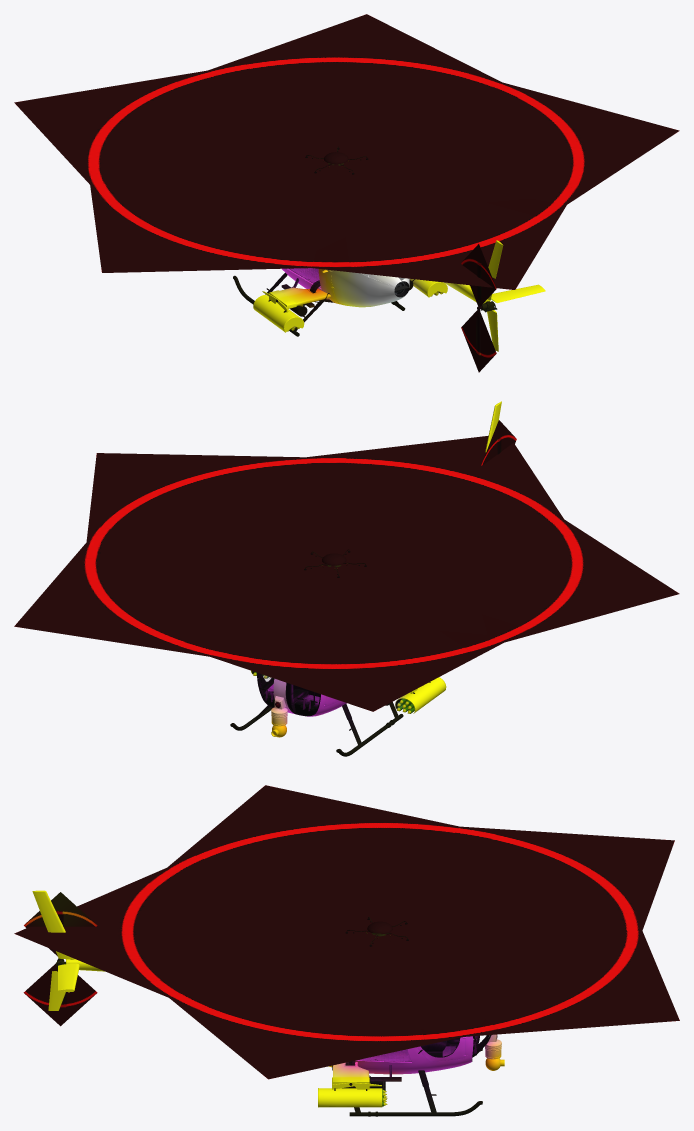
The model's file is buzzard.glb.
The picture shows the model from 3 angles, top to bottom: view 1: azimuth 30°, elevation 25°; view 2: azimuth 150°, elevation 25°; view 3: azimuth 270°, elevation 25°; orthographic projection. The views are drawn at different scales.
Visible parts, largest first — view 1: rotor_main_fast, bodyshell, outriggers_l, rotor_rear_fast, tail, chassis; view 2: rotor_main_fast, bodyshell, chassis, outriggers_l, suspension_lf, rotor_rear_fast; view 3: rotor_main_fast, rotor_rear_fast, outriggers_r, tail, bodyshell, chassis, suspension_rf.
Boxes of the visible parts, <box> form: rotor_main_fast: <box>14,14,679,289</box>; bodyshell: <box>282,268,409,307</box>; outriggers_l: <box>253,287,334,332</box>; rotor_rear_fast: <box>461,244,496,372</box>; tail: <box>443,240,545,351</box>; chassis: <box>281,268,321,307</box>; rotor_main_fast: <box>14,435,679,711</box>; bodyshell: <box>257,673,346,726</box>; chassis: <box>258,673,319,714</box>; outriggers_l: <box>395,677,446,713</box>; suspension_lf: <box>336,702,403,756</box>; rotor_rear_fast: <box>481,420,516,465</box>; rotor_main_fast: <box>14,785,679,1079</box>; rotor_rear_fast: <box>23,892,97,1026</box>; outriggers_r: <box>318,1062,387,1107</box>; tail: <box>32,890,104,1010</box>; bodyshell: <box>328,1034,501,1074</box>; chassis: <box>345,1035,489,1081</box>; suspension_rf: <box>349,1070,482,1116</box>.
Size of the model in its own units: 12.69 by 4 by 12.13.
Materials: 16 (16 with a texture image).
